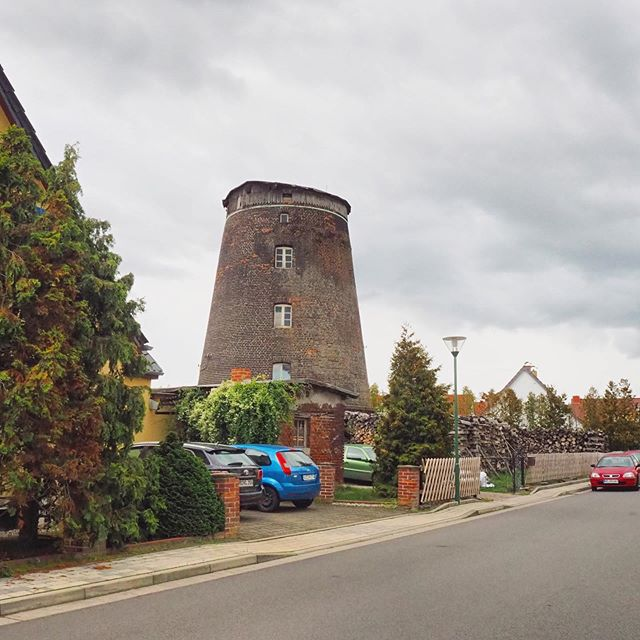building: (191, 172, 385, 416)
car: (250, 433, 321, 510), (190, 439, 261, 516), (591, 450, 640, 492)
sky: (43, 1, 637, 383)
street: (86, 500, 631, 640)
tree: (1, 150, 160, 546), (367, 340, 459, 509)
